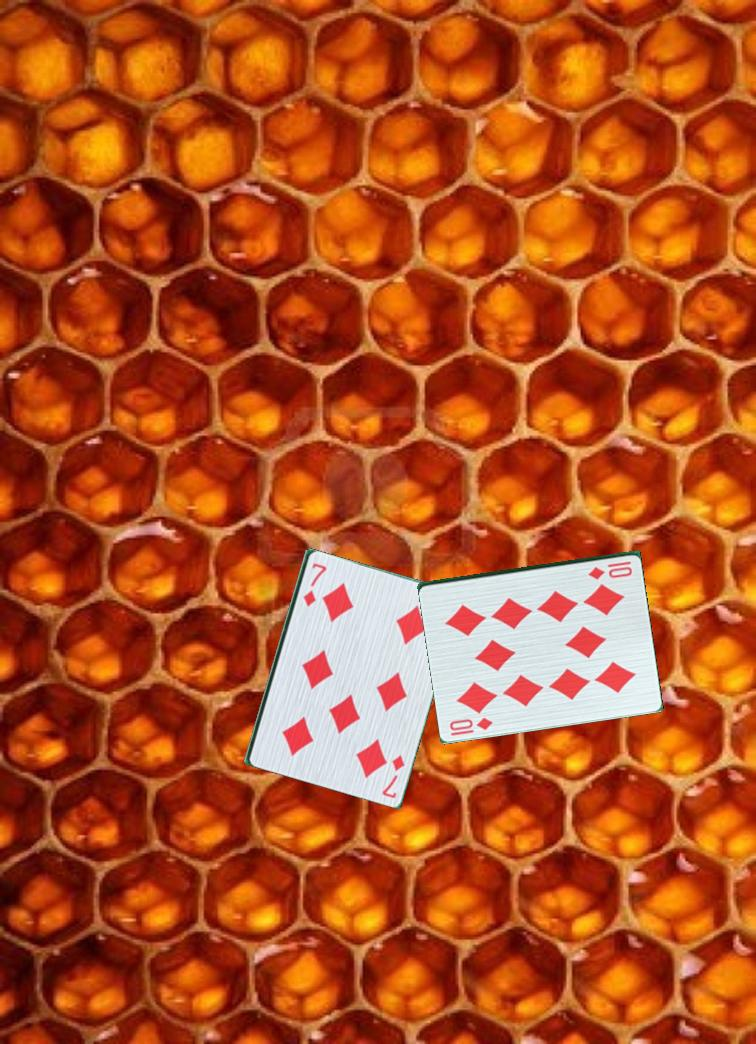7d: (378, 746, 411, 805), (299, 559, 327, 611)
td: (580, 558, 634, 582), (446, 714, 495, 734)
